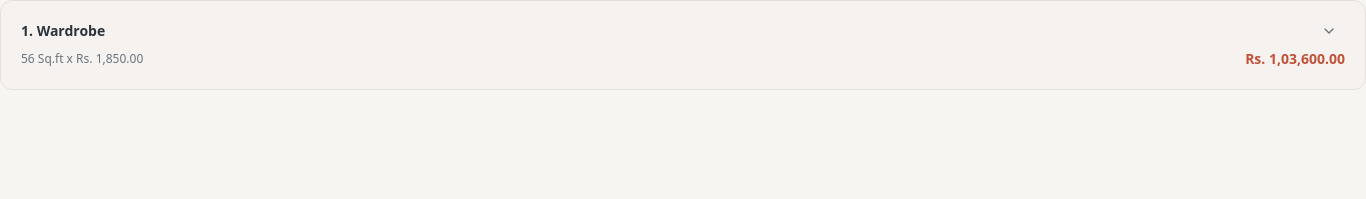
keeps the current item open as its rate becomes complete, then closes when another item is activated
Later steps or results of the test are not shown.
Click the button "1. Wardrobe".
click(71, 30)  # box [21,21,1337,41]
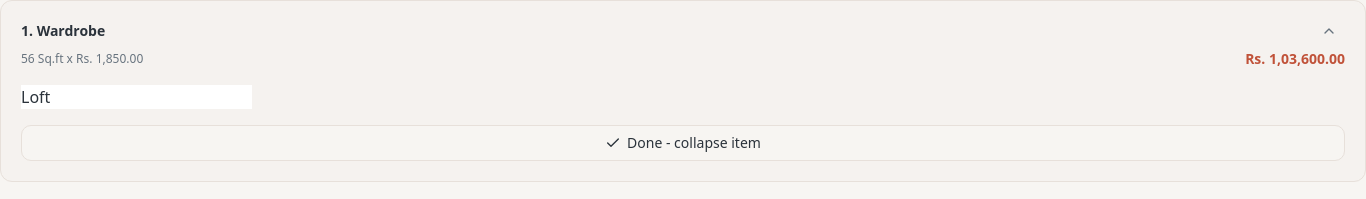
Expected: the field named "Description" holds "Loft", [21,85,252,109]
